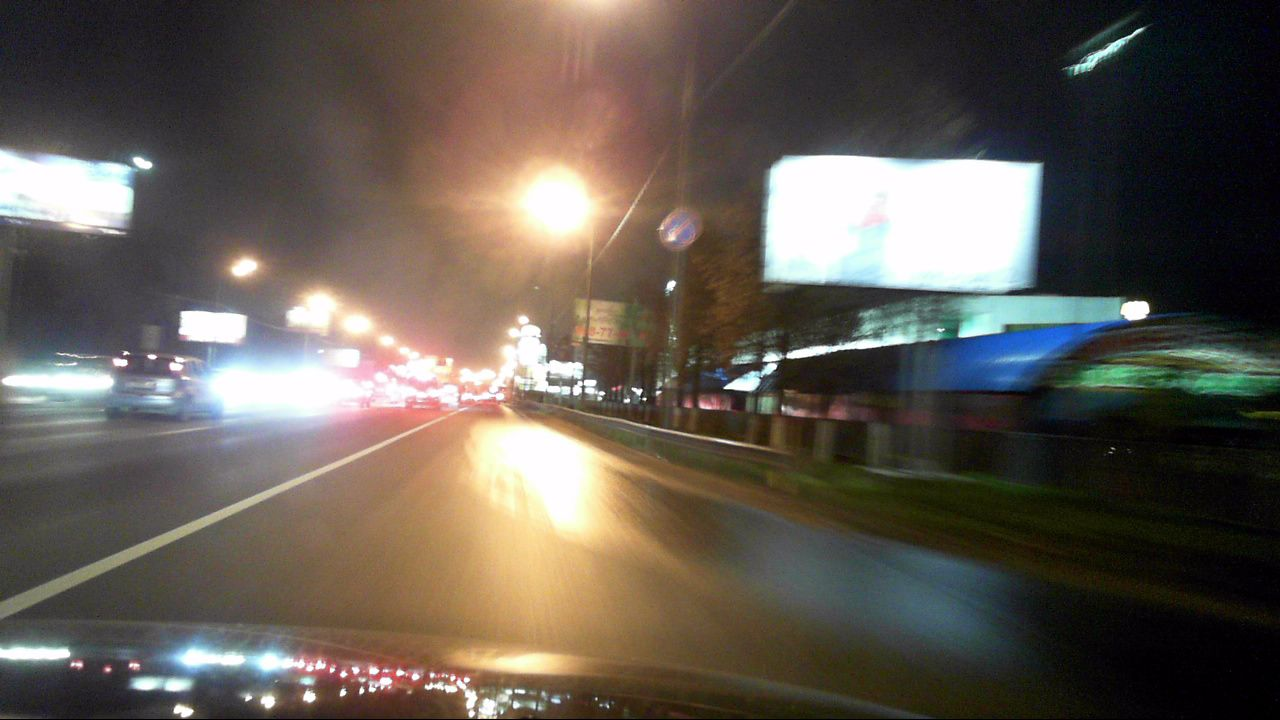No Parking: (657, 209, 698, 251)
